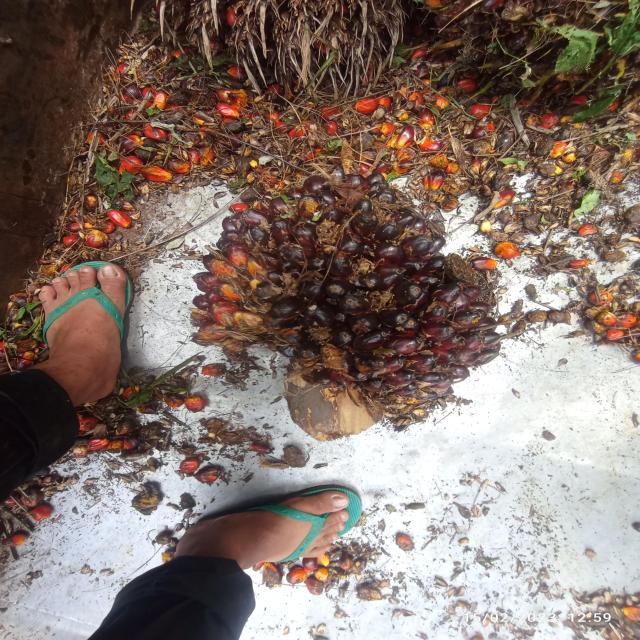fraksi 00: (160, 157, 534, 451)
